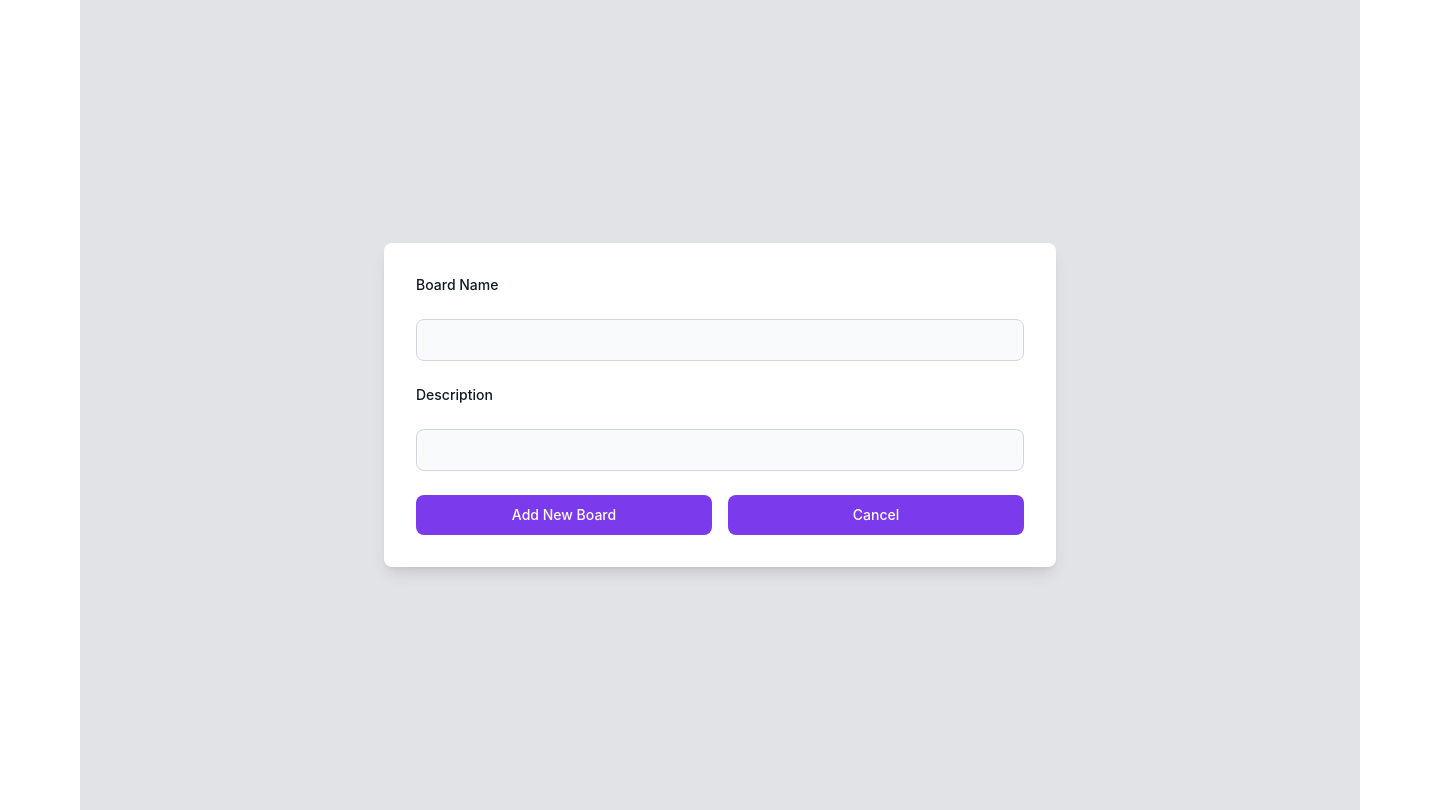
it: BoardForm component › displays validation error (catch block) when board creation fails
Type "New Board" into the field labelled "Board Name". click: (720, 340)
box: [416,319,1024,361]
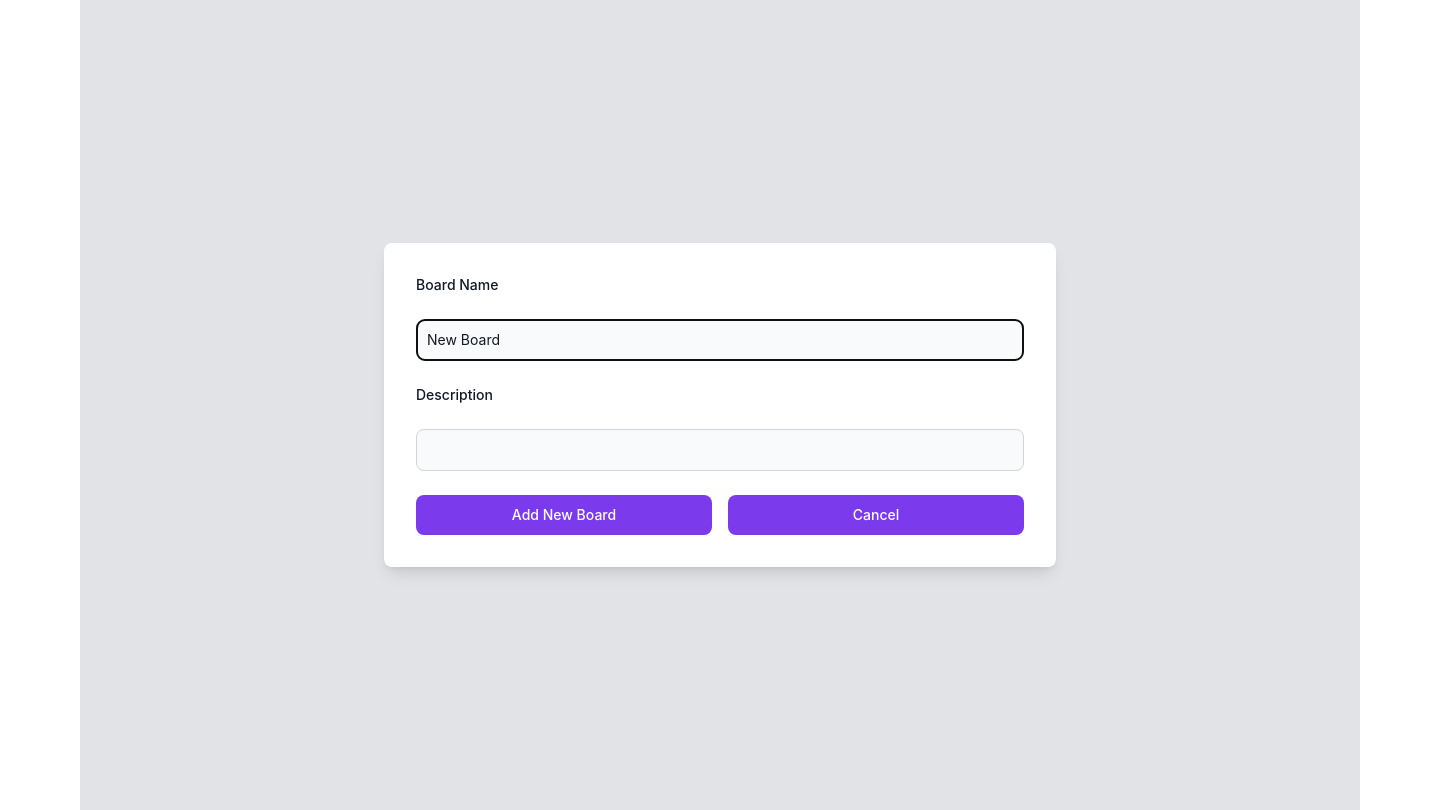
Click the button "Add New Board". click: (564, 515)
box: [416,495,712,535]
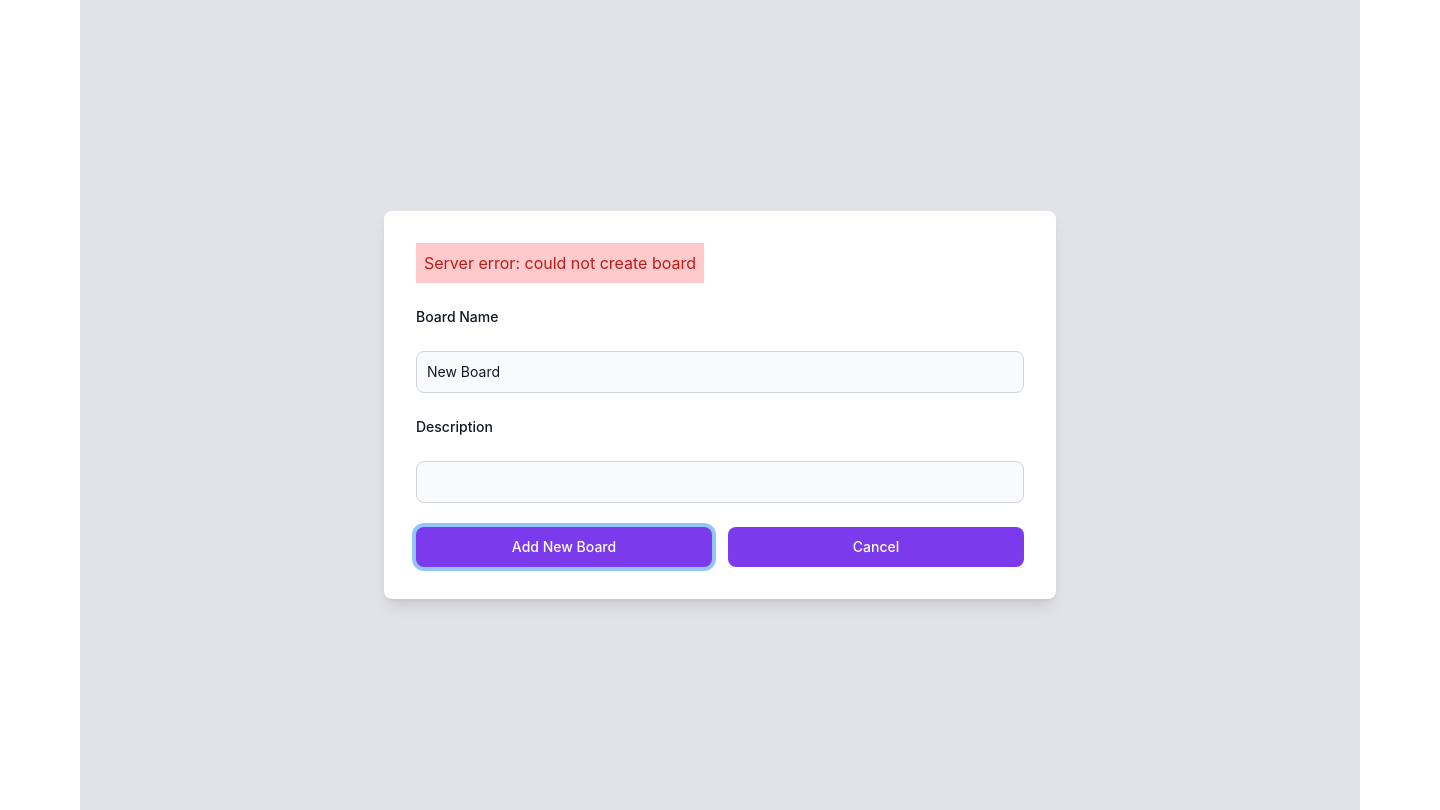
Expected: the text "Server error: could not create board" is shown, [416,243,704,283]
